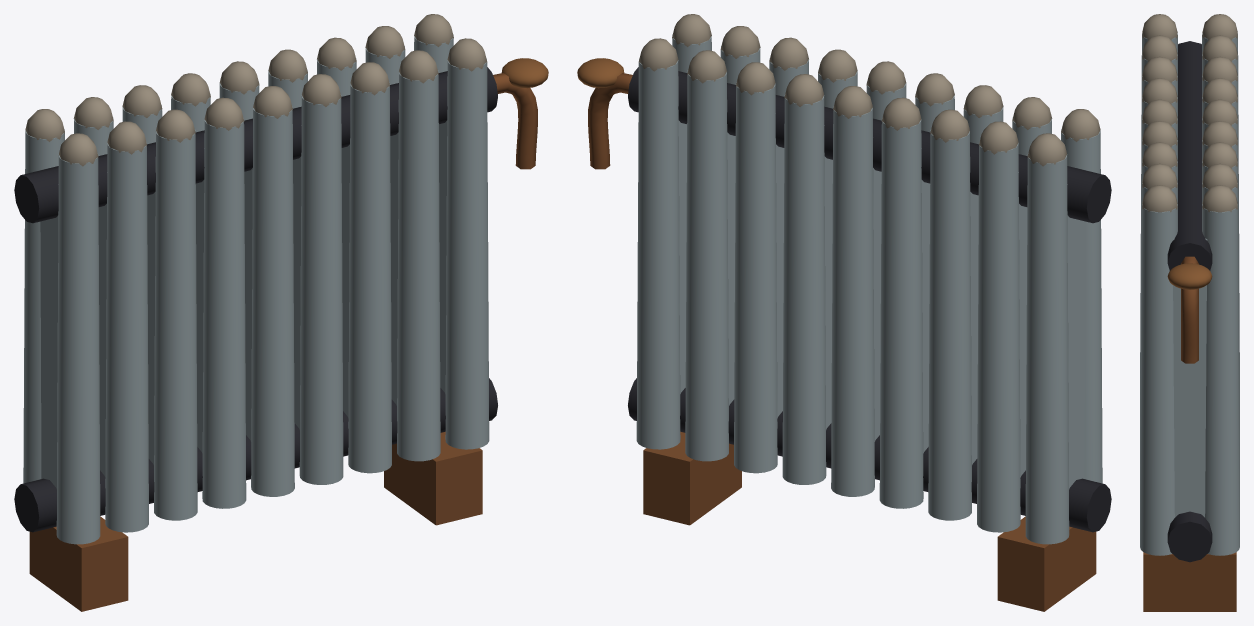
Rendered from mia-radiator.glb.
The picture shows the model from 3 angles, left to right: view 1: azimuth 30°, elevation 25°; view 2: azimuth 150°, elevation 25°; view 3: azimuth 270°, elevation 25°; orthographic projection. The views are drawn at different scales.
Visible parts, largest first — view 1: Body_steel, Body_mattress-seam, Body_rust, Body_iron, Body_oak; view 2: Body_steel, Body_mattress-seam, Body_rust, Body_iron, Body_oak; view 3: Body_steel, Body_mattress-seam, Body_iron, Body_rust, Body_oak.
Boxes of the visible parts, x1=… form: Body_steel: x1=23, y1=34, x2=489, y2=544; Body_mattress-seam: x1=25, y1=14, x2=487, y2=166; Body_rust: x1=29, y1=73, x2=537, y2=611; Body_iron: x1=14, y1=67, x2=497, y2=532; Body_oak: x1=501, y1=58, x2=548, y2=88; Body_steel: x1=636, y1=34, x2=1102, y2=544; Body_mattress-seam: x1=638, y1=14, x2=1100, y2=166; Body_rust: x1=588, y1=73, x2=1096, y2=611; Body_iron: x1=628, y1=67, x2=1111, y2=532; Body_oak: x1=577, y1=58, x2=624, y2=88; Body_steel: x1=1140, y1=33, x2=1239, y2=555; Body_mattress-seam: x1=1142, y1=14, x2=1237, y2=212; Body_iron: x1=1167, y1=41, x2=1212, y2=562; Body_rust: x1=1143, y1=256, x2=1236, y2=611; Body_oak: x1=1167, y1=263, x2=1212, y2=289.
Size of the model in its own units: 0.843 by 0.7285 by 0.156.
